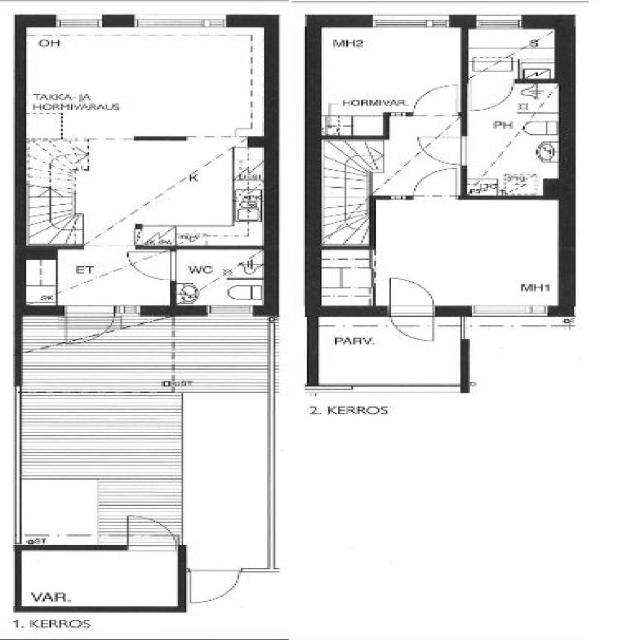door: (461, 76, 563, 200), (383, 274, 442, 342), (62, 306, 133, 342), (183, 566, 246, 606), (415, 131, 474, 170), (122, 513, 180, 551), (407, 165, 462, 203), (405, 82, 463, 118), (128, 247, 180, 284)
window: (59, 308, 140, 340), (128, 12, 236, 34), (463, 300, 554, 322), (367, 12, 456, 31), (49, 11, 110, 30), (469, 13, 532, 30), (198, 302, 262, 318), (180, 132, 247, 147)
zone: (20, 29, 263, 138), (376, 200, 567, 310), (100, 140, 268, 246), (316, 24, 466, 126), (462, 78, 564, 198), (8, 548, 183, 610), (170, 248, 268, 307), (465, 25, 562, 84), (26, 141, 84, 217), (317, 248, 376, 309)
